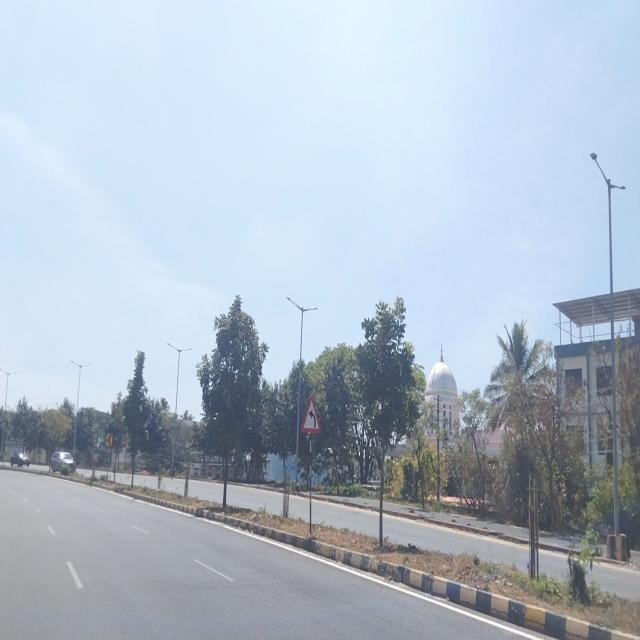bien_nguy_hiem: (301, 396, 321, 433)
